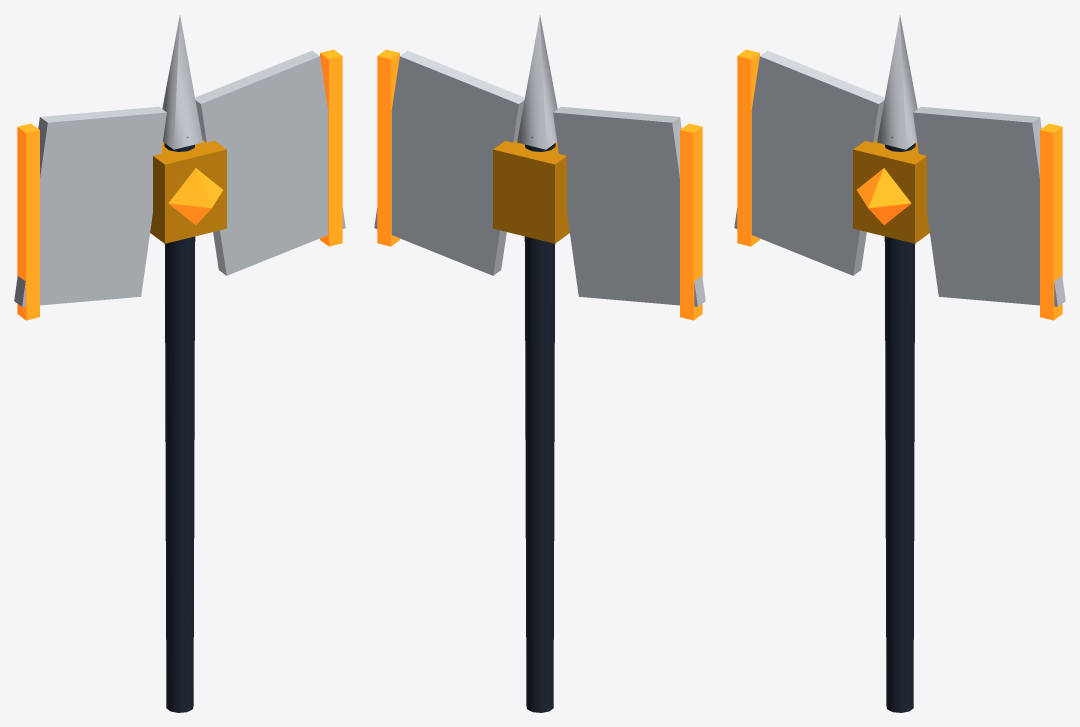
The model's file is dk_weapon_chaos_dragon_axe.glb.
3 renders of one model, left to right at view 1: azimuth 30°, elevation 25°; view 2: azimuth 150°, elevation 25°; view 3: azimuth 330°, elevation 25°, orthographic.
Parts seen in each view (by area): view 1: blade_axe_-1, blade_axe_1, grip, axe_socket, axe_edge_-1, axe_edge_1, axe_tip, axe_core; view 2: blade_axe_-1, blade_axe_1, grip, axe_socket, axe_edge_-1, axe_edge_1, axe_tip; view 3: blade_axe_1, blade_axe_-1, grip, axe_socket, axe_edge_1, axe_edge_-1, axe_tip, axe_core.
Boxes of the visible parts, box(x1,y1,x2,y2) form: blade_axe_-1: box(14, 106, 166, 306); blade_axe_1: box(195, 50, 345, 275); grip: box(164, 137, 195, 712); axe_socket: box(150, 140, 226, 243); axe_edge_-1: box(17, 123, 39, 320); axe_edge_1: box(320, 49, 342, 246); axe_tip: box(162, 15, 202, 149); axe_core: box(168, 168, 222, 224); blade_axe_-1: box(553, 106, 705, 306); blade_axe_1: box(374, 50, 524, 275); grip: box(524, 137, 555, 712); axe_socket: box(493, 140, 569, 243); axe_edge_-1: box(680, 123, 702, 320); axe_edge_1: box(377, 49, 399, 246); axe_tip: box(517, 15, 557, 149); blade_axe_1: box(913, 106, 1065, 306); blade_axe_-1: box(734, 50, 884, 275); grip: box(884, 137, 915, 712); axe_socket: box(853, 140, 929, 243); axe_edge_1: box(1040, 123, 1062, 320); axe_edge_-1: box(737, 49, 759, 246); axe_tip: box(877, 15, 917, 149); axe_core: box(857, 168, 911, 224).
Size of the model in its own units: 0.9408 by 1.93 by 0.24.
